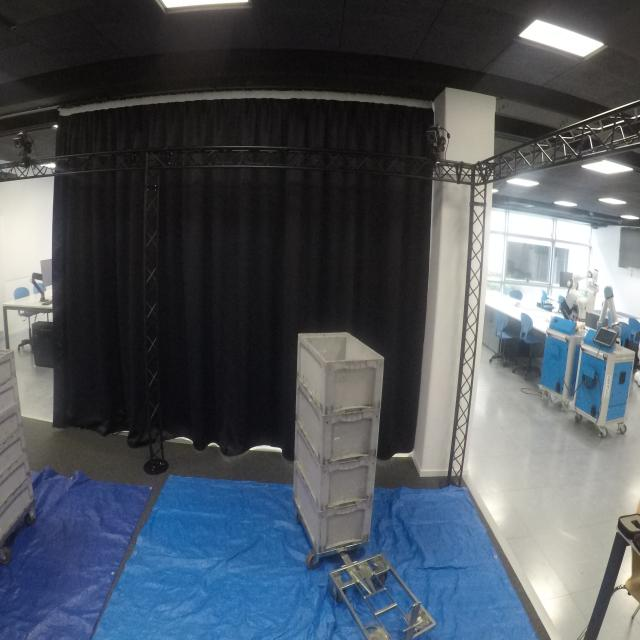Box4G: (294, 420, 381, 514), (294, 332, 387, 418), (294, 461, 376, 555), (294, 378, 384, 463)
